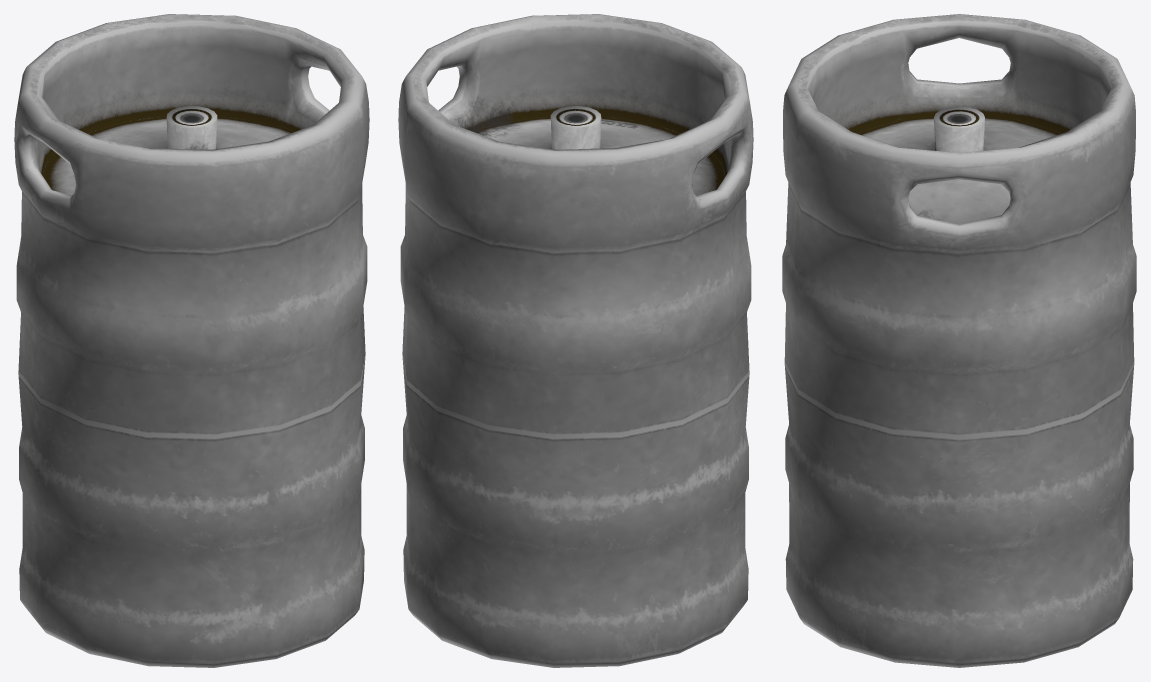
The model's file is old_keg.glb.
3 renders of one model, left to right at view 1: azimuth 30°, elevation 25°; view 2: azimuth 150°, elevation 25°; view 3: azimuth 270°, elevation 25°, orthographic.
Visible parts, largest first — view 1: Keg_Low; view 2: Keg_Low; view 3: Keg_Low.
Part boxes in pixels (<box>): Keg_Low: <box>14,14,369,667</box>; Keg_Low: <box>398,14,753,667</box>; Keg_Low: <box>782,14,1136,667</box>.
Bounding box in the file's own units: 46.59 × 75.59 × 46.83.
Materials: 1 (1 with a texture image).
